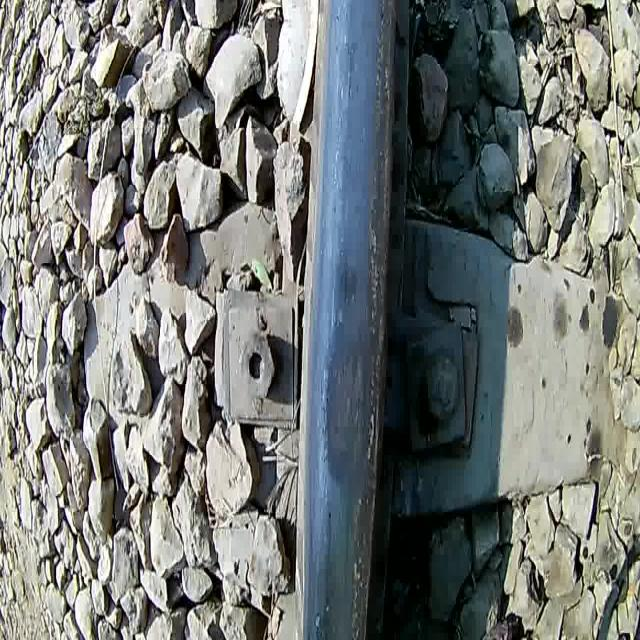Squats: (278, 0, 418, 640)
